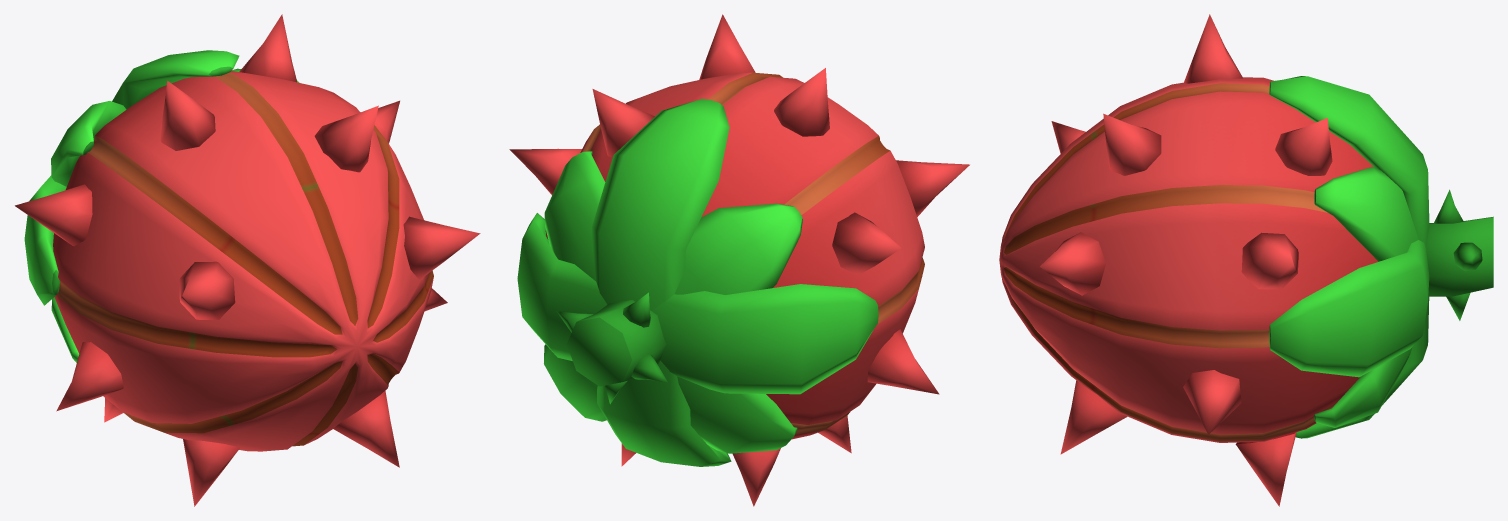
The model's file is REORIENTED_AlienStrawberry.fbx.
The picture shows the model from 3 angles, left to right: view 1: azimuth 30°, elevation 25°; view 2: azimuth 150°, elevation 25°; view 3: azimuth 270°, elevation 25°; orthographic projection.
Visible parts, largest first — view 1: TEXTURED_AlienStrawberry; view 2: TEXTURED_AlienStrawberry; view 3: TEXTURED_AlienStrawberry.
Boxes of the visible parts, <box> form: TEXTURED_AlienStrawberry: <box>15,14,480,506</box>; TEXTURED_AlienStrawberry: <box>509,14,969,506</box>; TEXTURED_AlienStrawberry: <box>999,14,1493,506</box>.
Size of the model in its own units: 154 by 156 by 170.
Materials: 1 (1 with a texture image).
